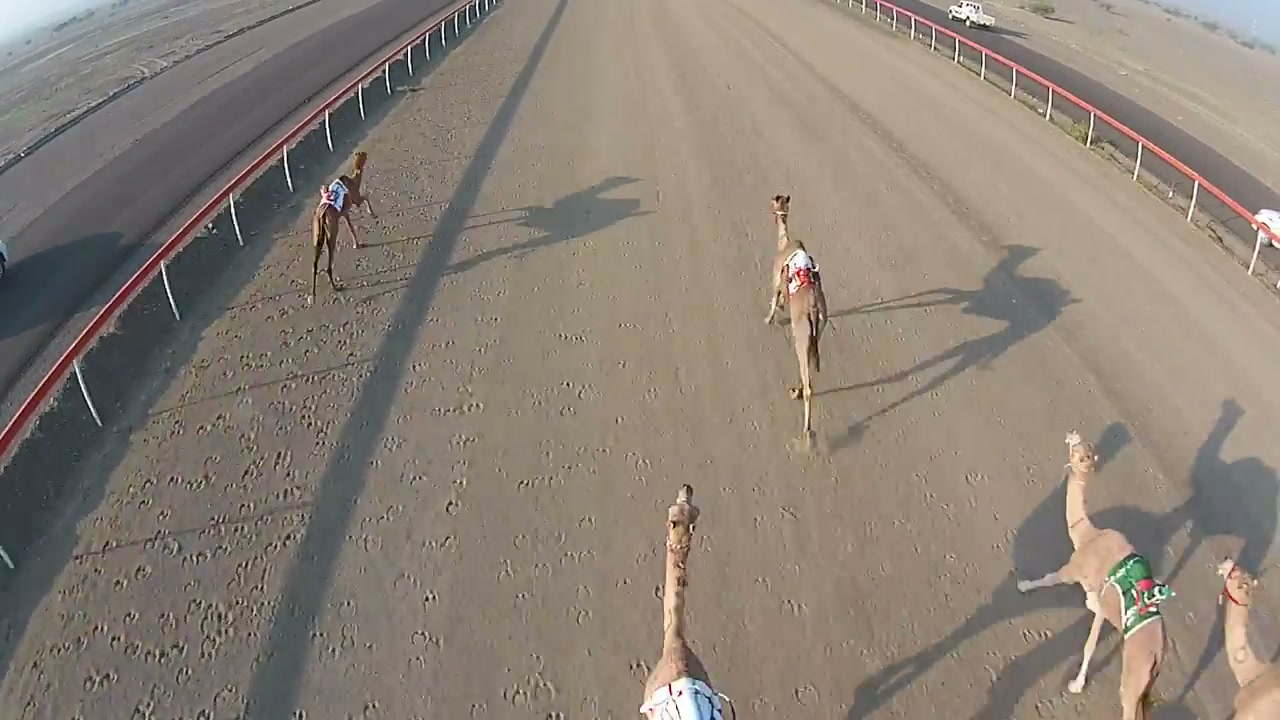animal_footprint: (80, 273, 362, 719), (328, 338, 424, 684), (406, 318, 493, 677)
